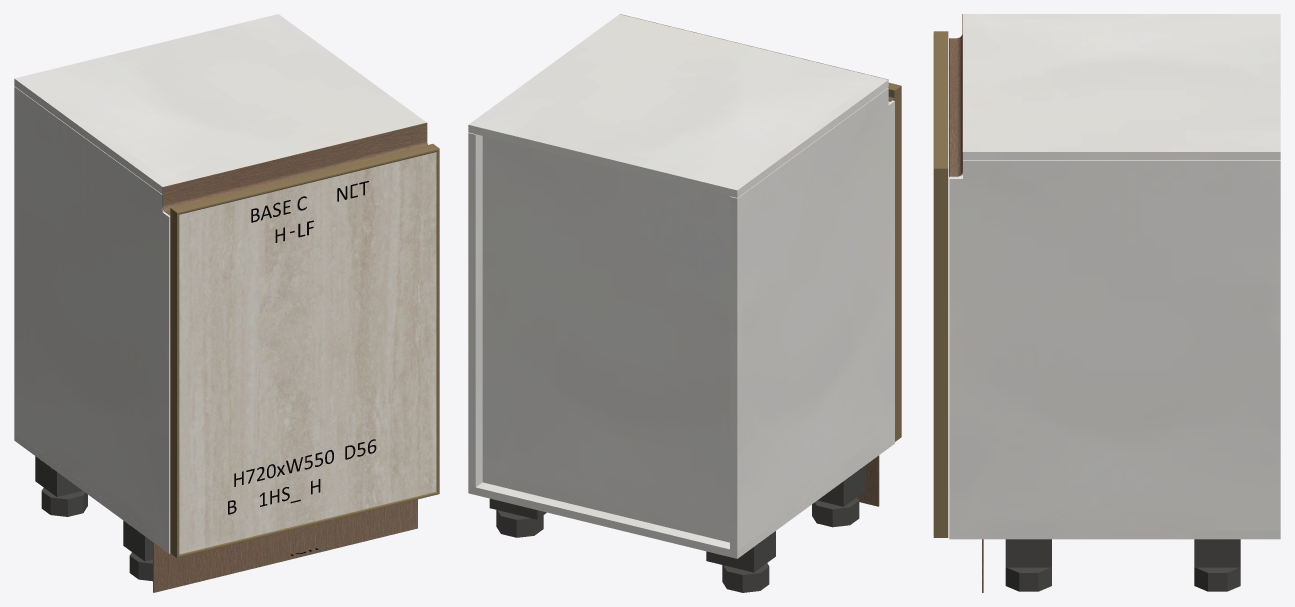
File: BC-SH-CJ-ST-1SX-LHS-XXX-550-720-560-15.glb
3 renders of one model, left to right at view 1: azimuth 30°, elevation 25°; view 2: azimuth 150°, elevation 25°; view 3: azimuth 270°, elevation 25°, orthographic. The views are drawn at different scales.
Visible parts, largest first — view 1: Object_node_11, TP_node, TP_node_1, Object_node_13, ExtrSplGeo, Extrusion_node_1, Extrusion, Extrusion_node, TP, 2D text_node, Foot, Extrusion_node_0 (+3 smaller); view 2: TP_node_3, TP_node, TP_node_1, TP_node_0, TP, Extrusion_node_1, Plate, Foot, Foot_node_0, Foot_node, Plate_node_0, Object_node_13; view 3: TP_node_0, TP_node_1, Extrusion_node, TP, Extrusion, ExtrSplGeo, Plate_node_1, Plate_node, Foot_node, Foot_node_1.
Part boxes in pixels (<box>): Object_node_11: <box>179,152,436,554</box>; TP_node: <box>14,86,170,546</box>; TP_node_1: <box>14,14,426,194</box>; Object_node_13: <box>153,499,417,592</box>; ExtrSplGeo: <box>162,122,427,215</box>; Extrusion_node_1: <box>170,208,179,557</box>; Extrusion: <box>171,144,439,214</box>; Extrusion_node: <box>436,149,439,493</box>; TP: <box>14,433,170,553</box>; 2D text_node: <box>228,439,376,514</box>; Foot: <box>41,488,87,516</box>; Extrusion_node_0: <box>177,491,439,557</box>; TP_node_3: <box>482,136,730,542</box>; TP_node: <box>730,88,894,551</box>; TP_node_1: <box>468,14,888,197</box>; TP_node_0: <box>468,132,482,487</box>; TP: <box>468,436,894,558</box>; Extrusion_node_1: <box>888,86,901,441</box>; Plate: <box>706,531,775,572</box>; Foot: <box>722,563,769,592</box>; Foot_node_0: <box>812,497,859,527</box>; Foot_node: <box>496,510,543,537</box>; Plate_node_0: <box>817,465,865,506</box>; Object_node_13: <box>857,455,879,506</box>; TP_node_0: <box>949,160,1280,530</box>; TP_node_1: <box>963,14,1280,159</box>; Extrusion_node: <box>933,168,948,537</box>; TP: <box>949,531,1280,539</box>; Extrusion: <box>934,31,948,168</box>; ExtrSplGeo: <box>949,14,962,176</box>; Plate_node_1: <box>1005,539,1051,567</box>; Plate_node: <box>1194,539,1240,567</box>; Foot_node: <box>1194,567,1240,591</box>; Foot_node_1: <box>1005,567,1051,591</box>.
Size of what is drawn, in the model's own units: 0.55 by 0.82 by 0.5899.
6 materials, 3 textured.
